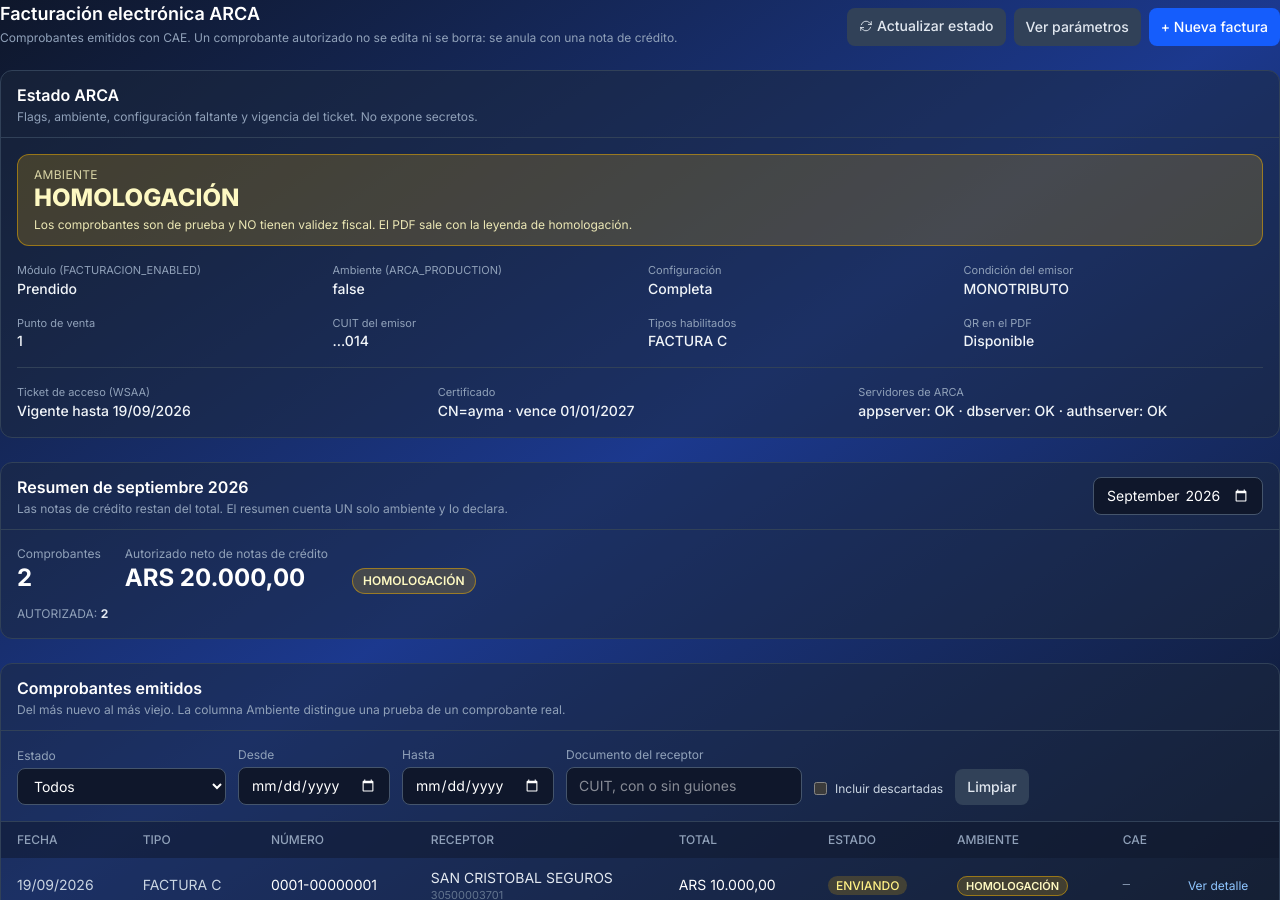
Test: Descartar un comprobante colgado › la confirmación explica que PRIMERO se consulta a ARCA y que si la tiene no se descarta
This screenshot has width=1280, height=900.
Check: the message labelled "Ambiente HOMOLOGACIÓN" is shown, box [17, 154, 1263, 246]
Click the button "Ver detalle": [1218, 886] box [1188, 878, 1248, 894]
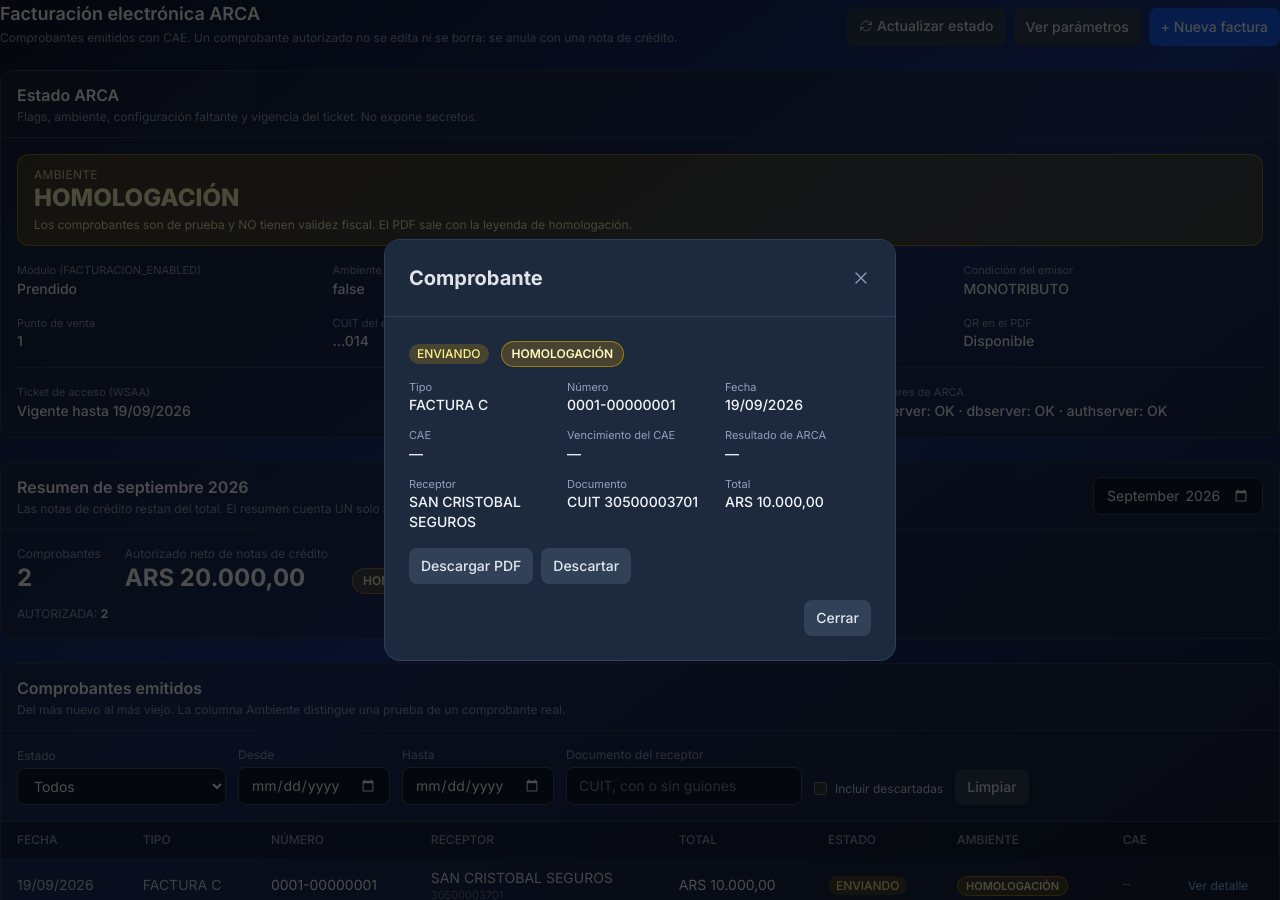
Check: the button "Descargar PDF" is shown, box [409, 548, 533, 584]
Click the button "Descartar": [586, 566] box [541, 548, 631, 584]
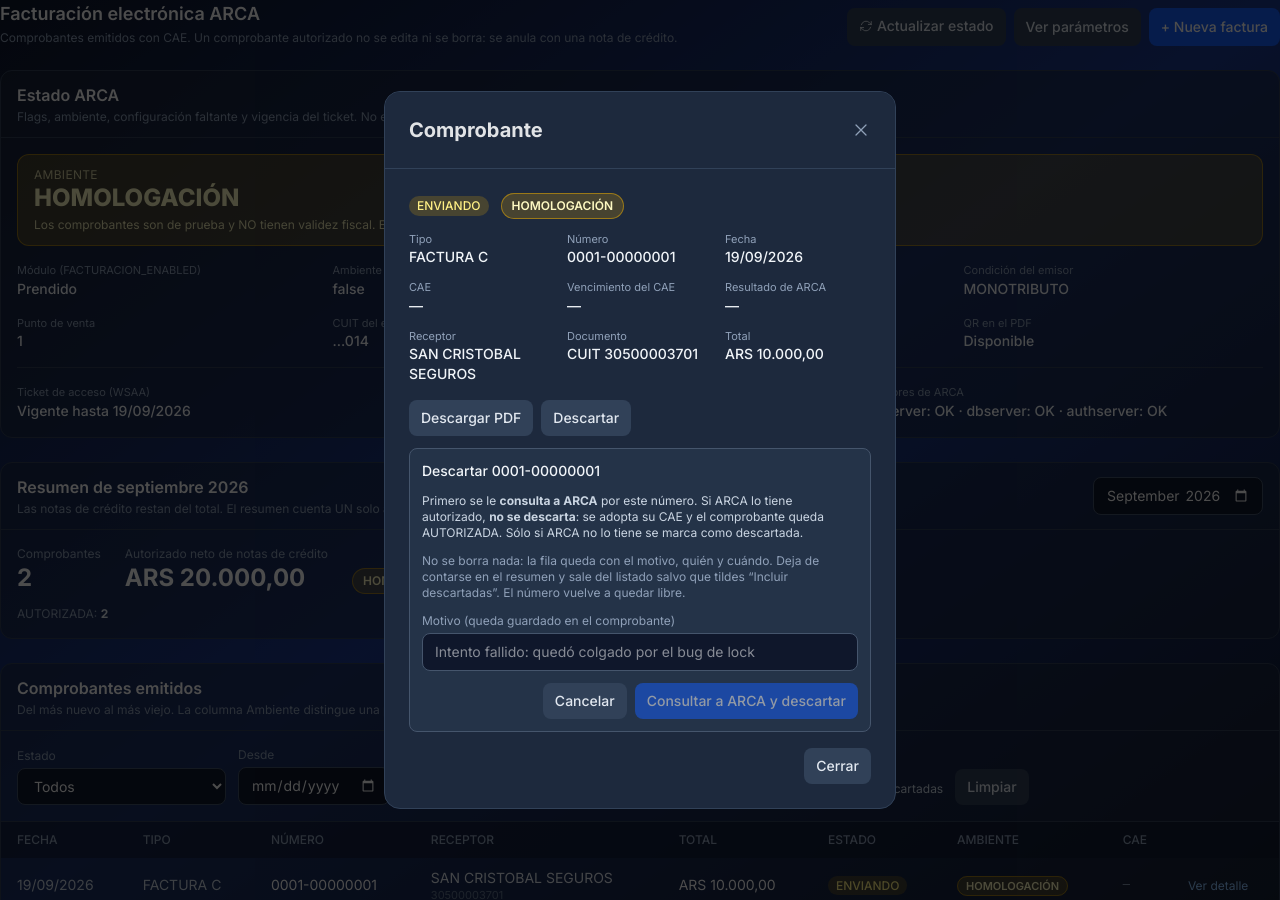
Check: the text "Primero se le" shows "consulta a ARCA", box [500, 493, 598, 508]
Check: the text "Primero se le" shows "no se descarta", box [489, 509, 576, 524]
Check: the text "Primero se le" shows "adopta su CAE", box [422, 509, 824, 540]
